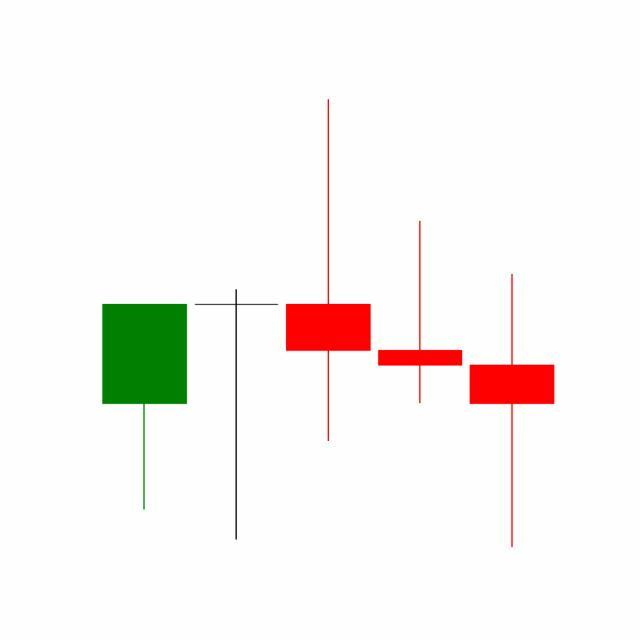Spinning Top: (466, 271, 559, 551)
